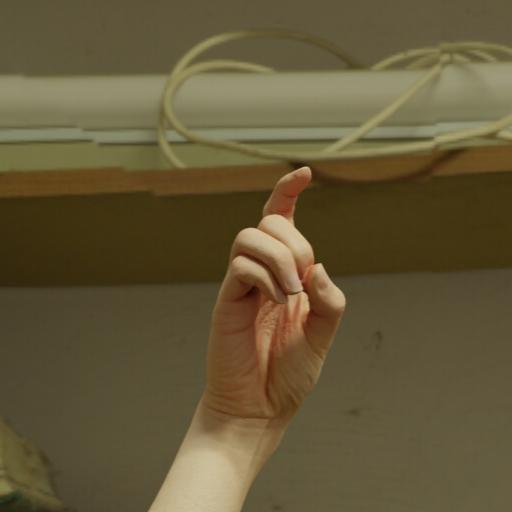X: (181, 156, 356, 472)
